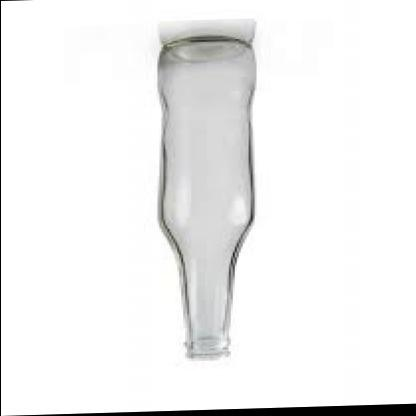trash: (158, 20, 255, 356)
